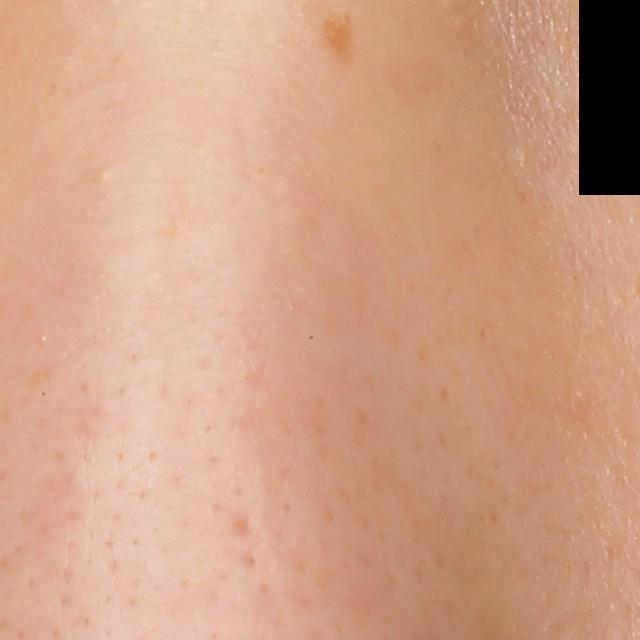comedo: (94, 166, 113, 182)
melasma: (319, 13, 361, 72)
